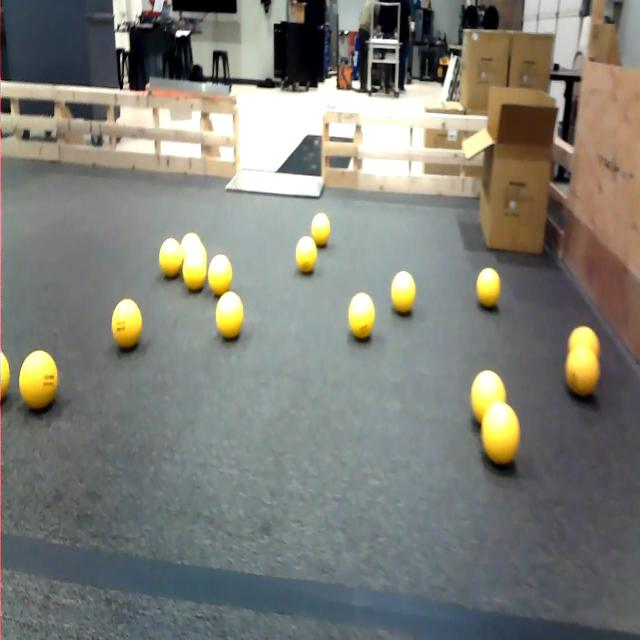fuel: (481, 402, 520, 465), (19, 351, 57, 410), (471, 370, 506, 423), (566, 346, 600, 397), (112, 299, 142, 349), (216, 292, 243, 339), (348, 293, 374, 339), (391, 271, 416, 314), (182, 248, 206, 291), (568, 327, 600, 358), (208, 255, 232, 296), (477, 268, 501, 308), (159, 239, 183, 278), (296, 237, 317, 272), (311, 213, 330, 247), (180, 232, 202, 253), (0, 352, 9, 400)
